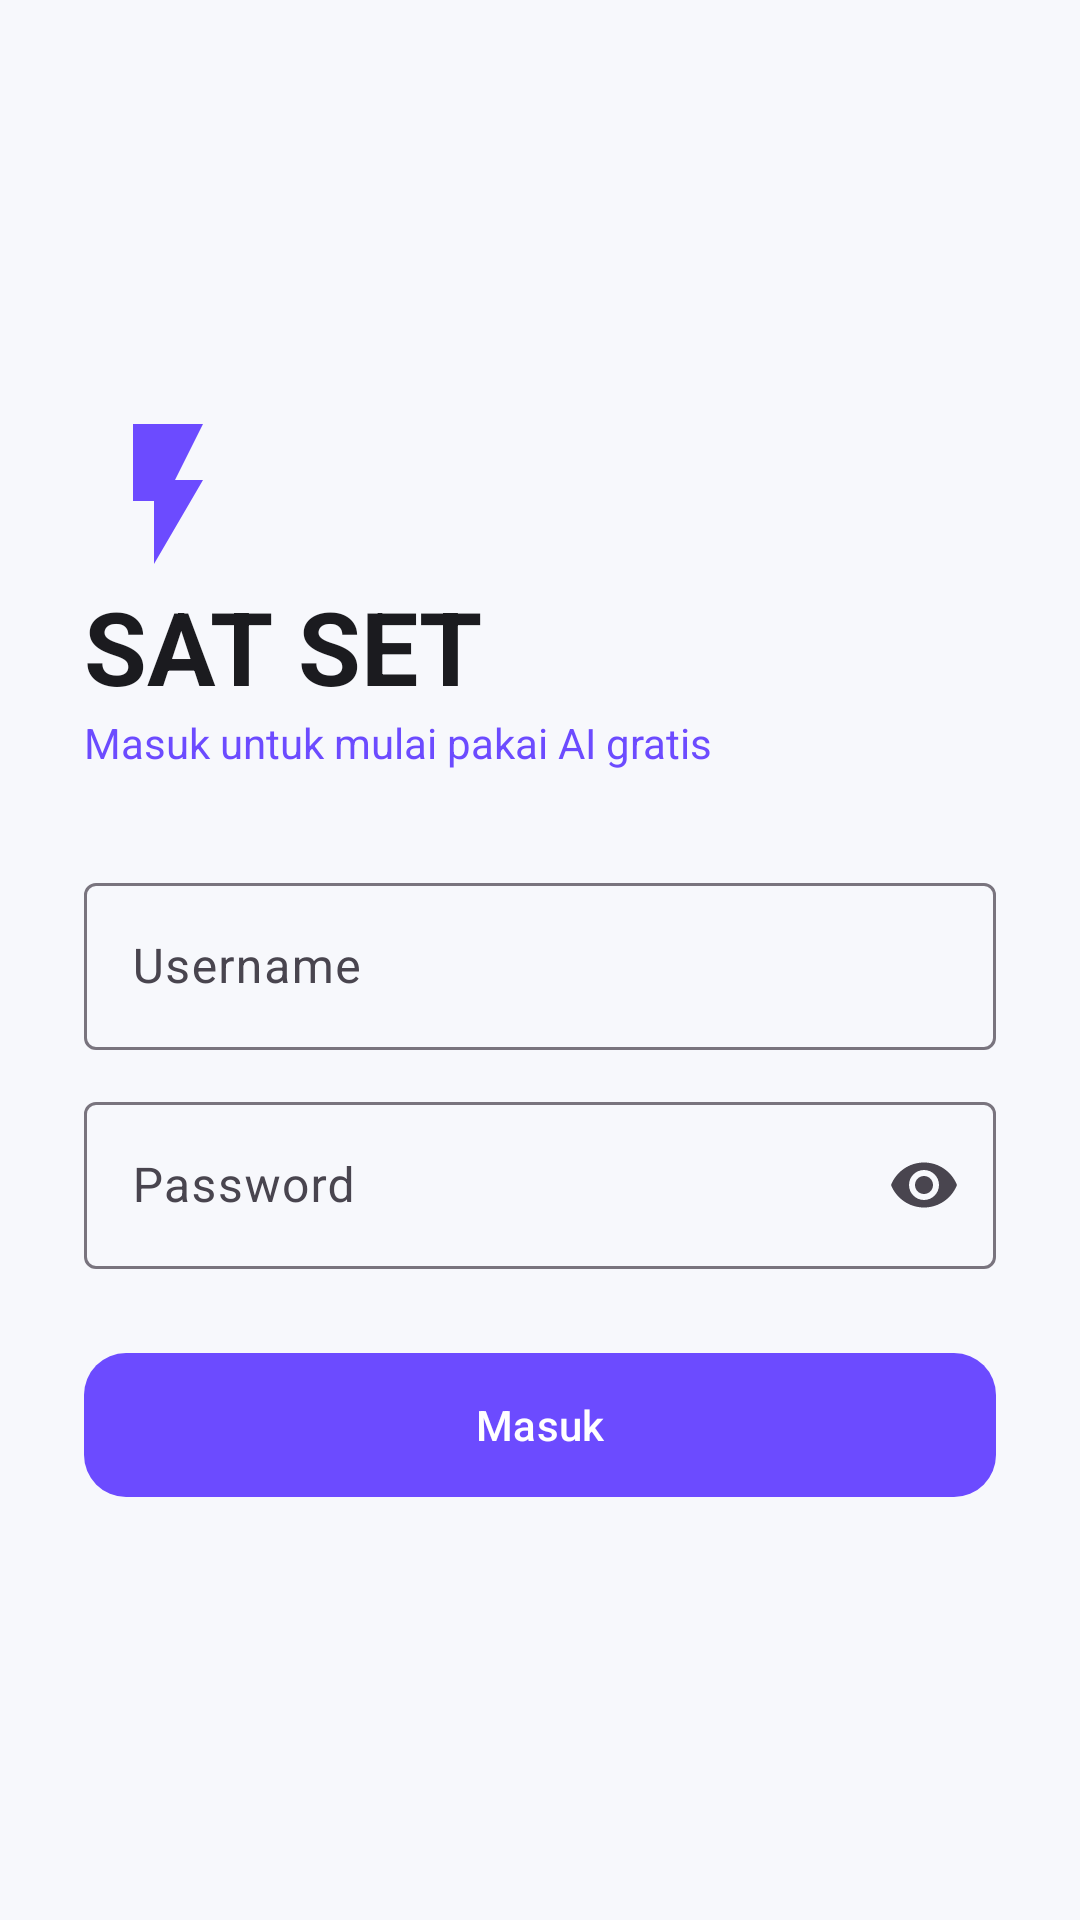

Where icons sit on this 1080px x 1920px app screen, as (x1, y1, x2, y2):
bolt: (133, 424, 203, 564)
